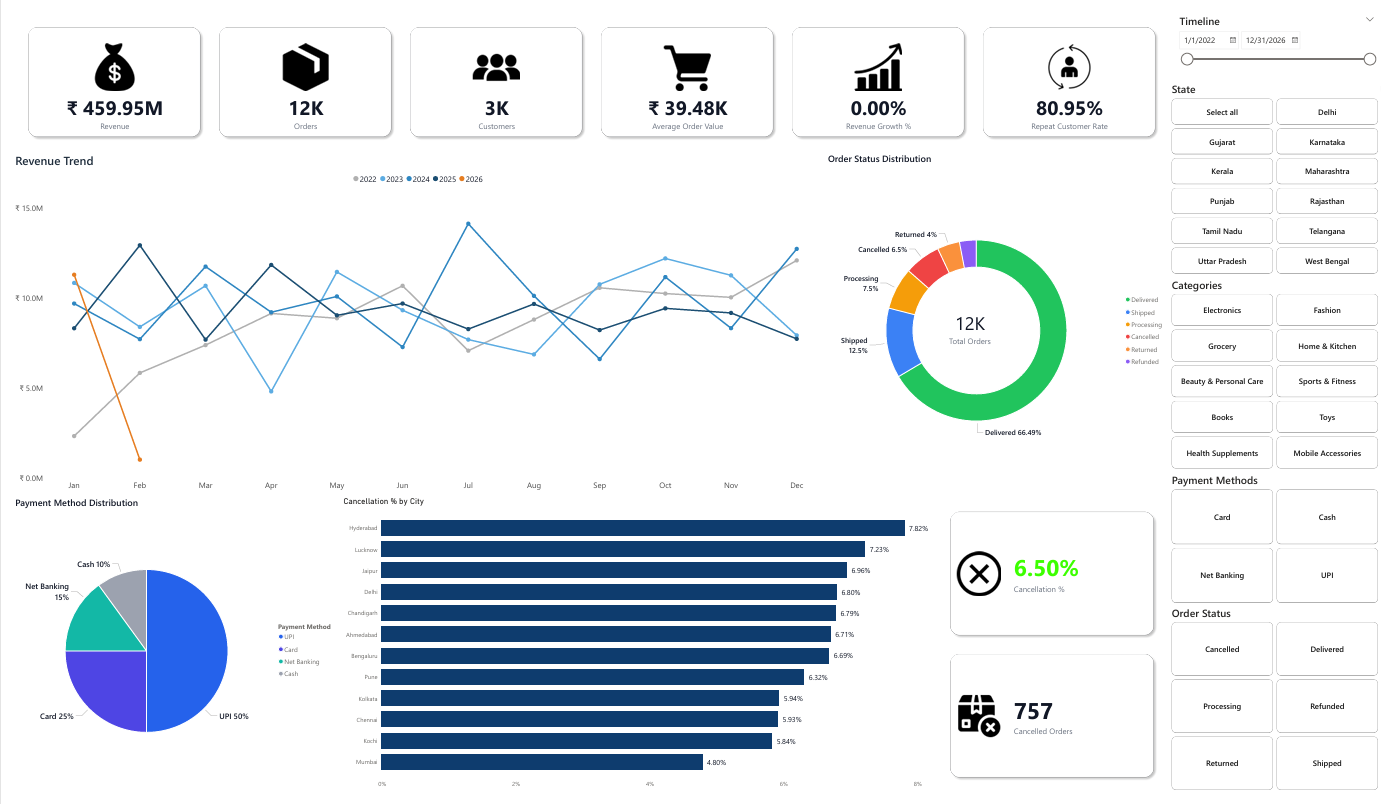

What the dashboard file says about the page in this screenshot:
{"tool":"powerbi","page":{"name":"Executive Overview","canvas":[2800,1600],"ordinal":0},"visuals":[{"type":"cardVisual","fields":{"Data":["Category.Total Revenue","Category.Total Orders","Category.Total Customers","Category.Average Order Value","Category.Revenue Growth %","Category.Repeat Customer Rate"]},"box":[0,0,2376,288],"z":0},{"type":"lineChart","title":"Revenue Trend","fields":{"Y":["Category.Total Revenue"],"Category":["Date_Table.Month"],"Series":["Date_Table.Year"]},"box":[0,288,1664,704],"z":1000},{"type":"cardVisual","fields":{"Data":["Category.Cancellation %","Category.Cancelled Orders"]},"box":[1888,992,480,608],"z":2000},{"type":"donutChart","title":"Order Status Distribution","fields":{"Y":["Category.Total Orders"],"Category":["Orders.Order_Status"]},"box":[1664,288,704,704],"z":3000},{"type":"cardVisual","fields":{"Data":["Category.Total Orders"]},"box":[1880,584,160,128],"z":4000},{"type":"pieChart","title":"Payment Method Distribution","fields":{"Category":["Payments.Payment_Method"],"Y":["Category.Total Orders"]},"box":[0,992,672,608],"z":5000},{"type":"barChart","fields":{"Y":["Category.Cancellation %"],"Category":["Customers.City"]},"box":[672,992,1216,608],"z":6000},{"type":"slicer","fields":{"Values":["Date_Table.Date"]},"box":[2368,0,432,160],"z":7000},{"type":"advancedSlicerVisual","fields":{"Values":["Customers.State"]},"box":[2368,144,432,400],"z":8000},{"type":"advancedSlicerVisual","title":"Categories","fields":{"Values":["Category.Category_Name"]},"box":[2368,544,432,400],"z":9000},{"type":"advancedSlicerVisual","title":"Payment Methods","fields":{"Values":["Payments.Payment_Method"]},"box":[2368,944,432,272],"z":10000},{"type":"advancedSlicerVisual","title":"Order Status","fields":{"Values":["Orders.Order_Status"]},"box":[2368,1216,432,384],"z":11000}]}

Visuals, with their boxes in screenshot pixels (x1, y1, x2, y2), scaled from the page's 2800x1600 canvas onto the 1390x804 screenshot:
cardVisual - Category.Total Revenue x Category.Total Orders: left=0, top=0, right=1180, bottom=145
"Revenue Trend" lineChart: left=0, top=145, right=826, bottom=498
cardVisual - Category.Cancellation % x Category.Cancelled Orders: left=937, top=498, right=1176, bottom=803
"Order Status Distribution" donutChart: left=826, top=145, right=1176, bottom=498
cardVisual - Category.Total Orders: left=933, top=293, right=1013, bottom=358
"Payment Method Distribution" pieChart: left=0, top=498, right=334, bottom=803
barChart - Category.Cancellation % x Customers.City: left=334, top=498, right=937, bottom=803
slicer - Date_Table.Date: left=1176, top=0, right=1389, bottom=80
advancedSlicerVisual - Customers.State: left=1176, top=72, right=1389, bottom=273
"Categories" advancedSlicerVisual: left=1176, top=273, right=1389, bottom=474
"Payment Methods" advancedSlicerVisual: left=1176, top=474, right=1389, bottom=611
"Order Status" advancedSlicerVisual: left=1176, top=611, right=1389, bottom=803
